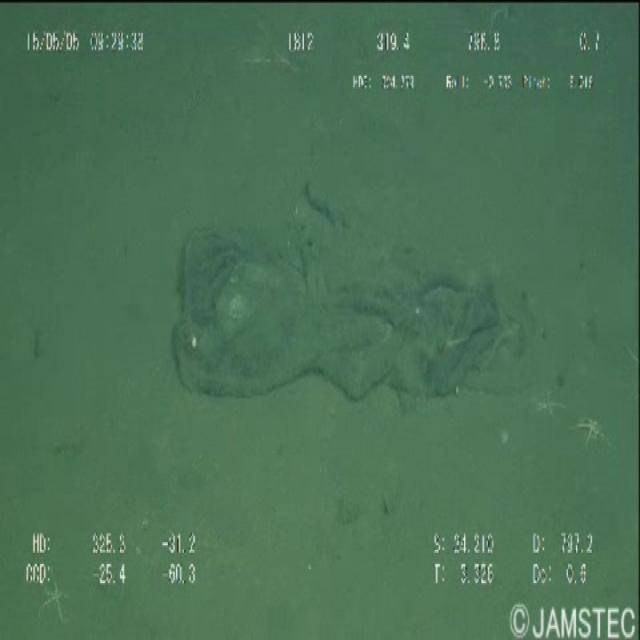Rope: (176, 165, 514, 437)
